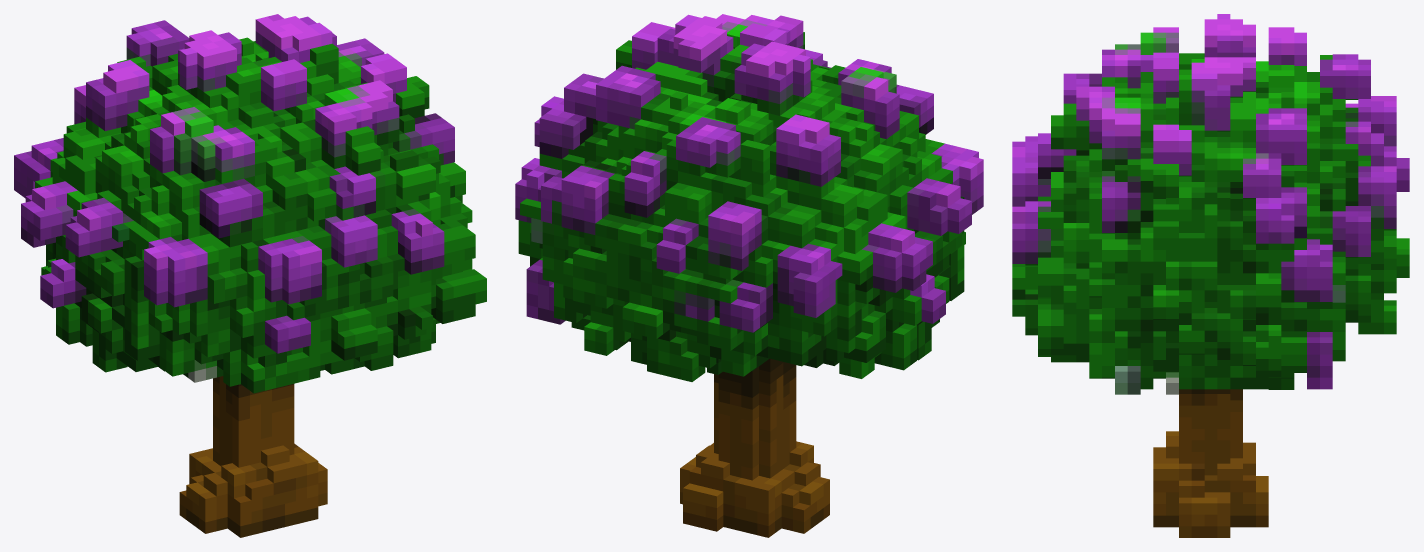
File: Erick_Santiago_Rodríguez_Paez_fase_3.obj
The picture shows the model from 3 angles, left to right: view 1: azimuth 30°, elevation 25°; view 2: azimuth 150°, elevation 25°; view 3: azimuth 270°, elevation 25°; orthographic projection.
Parts seen in each view (by area): view 1: Erick_Santiago_Rodríguez_Paez_fase_3; view 2: Erick_Santiago_Rodríguez_Paez_fase_3; view 3: Erick_Santiago_Rodríguez_Paez_fase_3.
Boxes of the visible parts, x1,y1,x2,y2 form: Erick_Santiago_Rodríguez_Paez_fase_3: [14, 14, 486, 537]; Erick_Santiago_Rodríguez_Paez_fase_3: [515, 14, 983, 537]; Erick_Santiago_Rodríguez_Paez_fase_3: [1012, 14, 1409, 537].
Bounding box in the file's own units: 35 × 40 × 31.
Materials: 1 (1 with a texture image).
